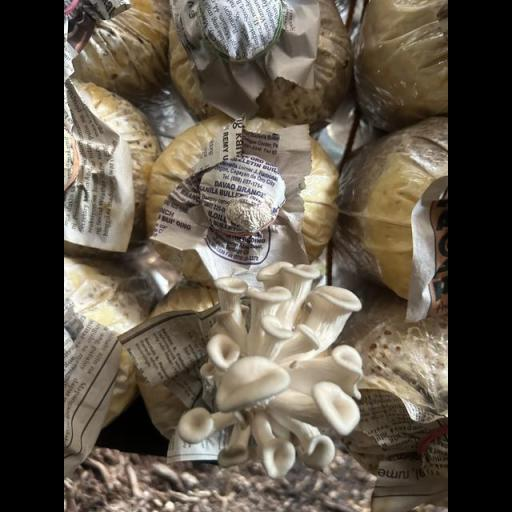White Oyster Mushroom: (168, 256, 380, 498)
